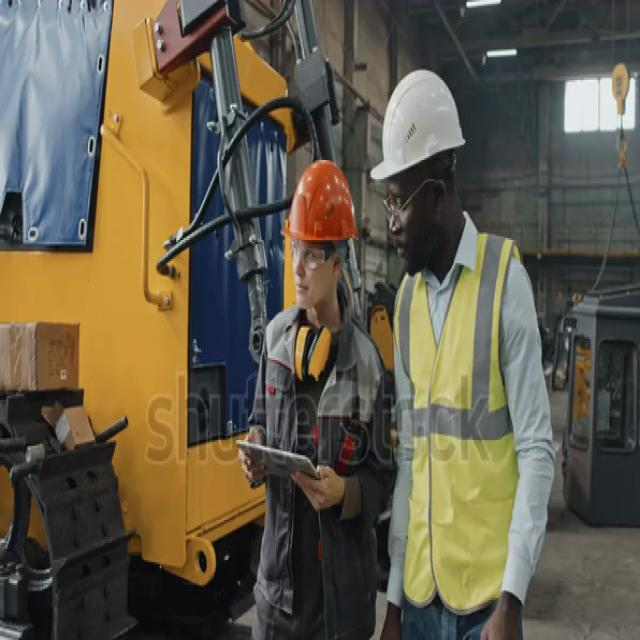goggles: (375, 184, 423, 230), (286, 239, 334, 271)
